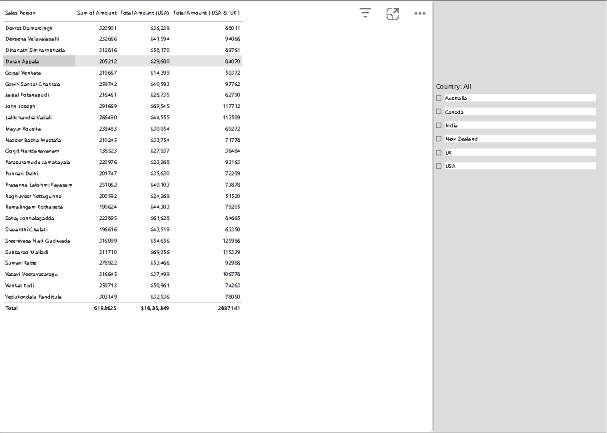

This screenshot's page, from the dashboard's own definition file:
{"tool":"powerbi","page":{"name":"Page 5","canvas":[1920,1080],"ordinal":4},"visuals":[{"type":"tableEx","fields":{"Values":["data.Sales Person","Sum(data.Amount)","data.Total Amount (USA)","data.Total Amount ( USA & UK )"]},"box":[0,0,1092.5,1080],"z":0},{"type":"slicer","fields":{"Values":["data.Country"]},"box":[1092.5,202.5,407.5,877.5],"z":1}]}

Visuals, with their boxes on the page's 1920x1080 design canvas (x1, y1, x2, y2). These are canvas units, not pixel positions in the 607x433 screenshot, which may show the page scaled, cropped or inside an application window:
tableEx - data.Sales Person x Sum(data.Amount): box(0, 0, 1092, 1080)
slicer - data.Country: box(1092, 202, 1500, 1080)
